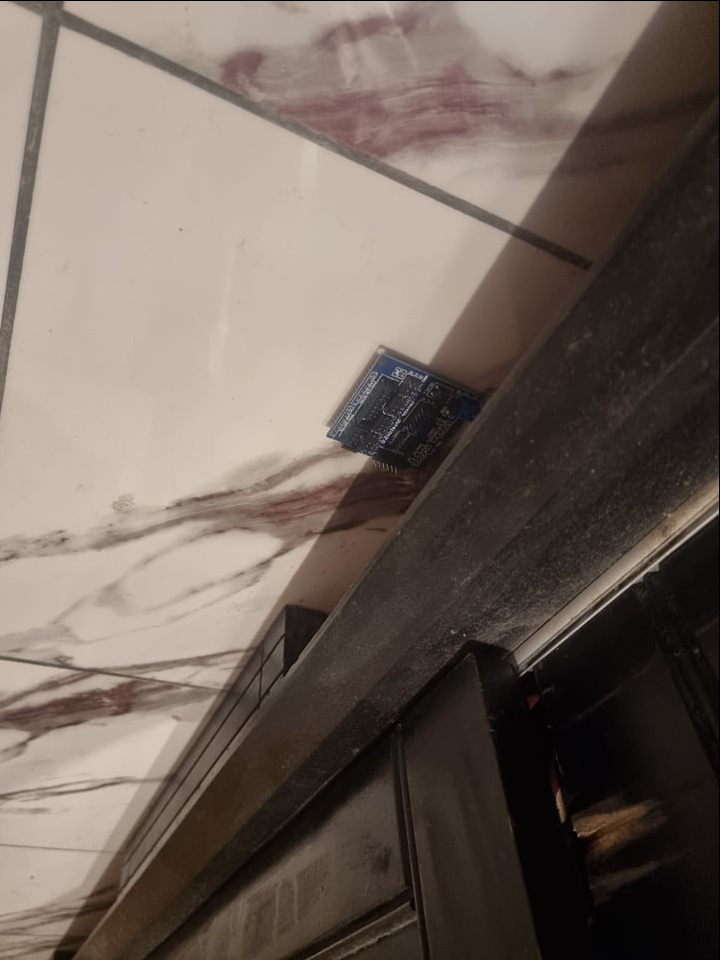5V EXPANSION: (324, 340, 488, 468)
